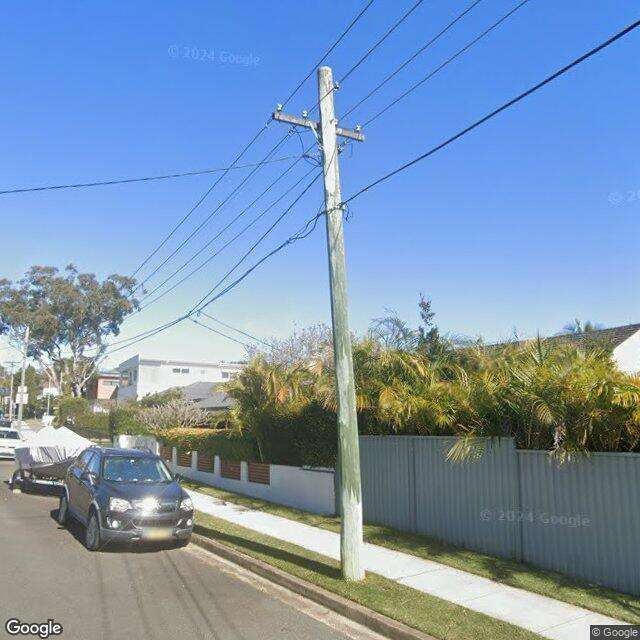crossarm: (272, 111, 366, 142), (3, 360, 22, 365)
timber-pole: (317, 63, 364, 581), (16, 325, 30, 432), (10, 361, 13, 422)
